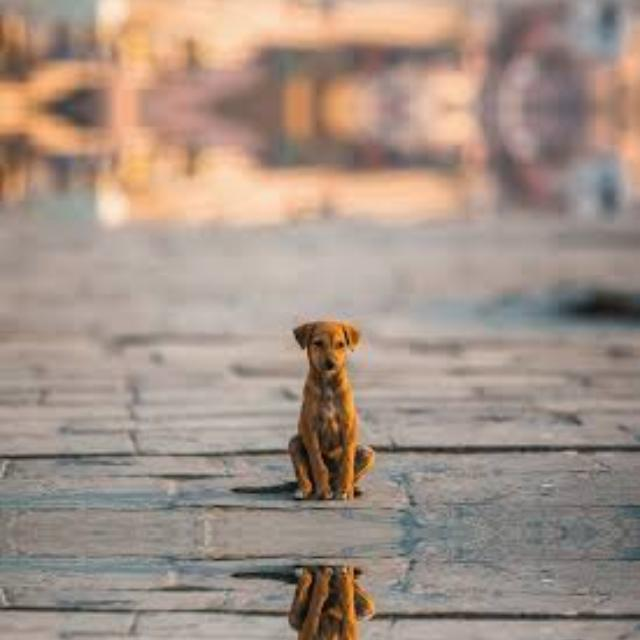dog: (249, 264, 405, 524), (249, 542, 405, 640)
